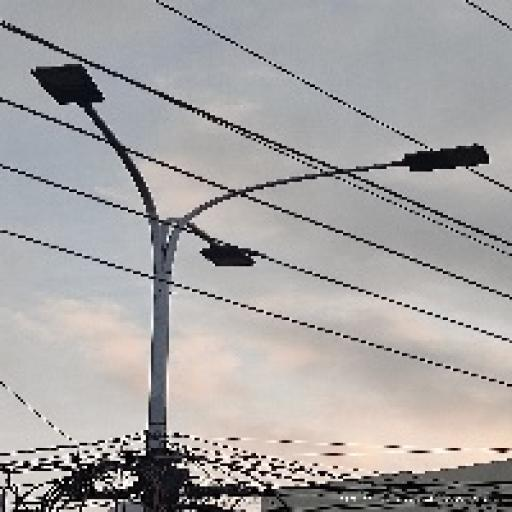Not Working: (22, 51, 118, 116), (395, 134, 492, 186), (193, 235, 260, 281)
